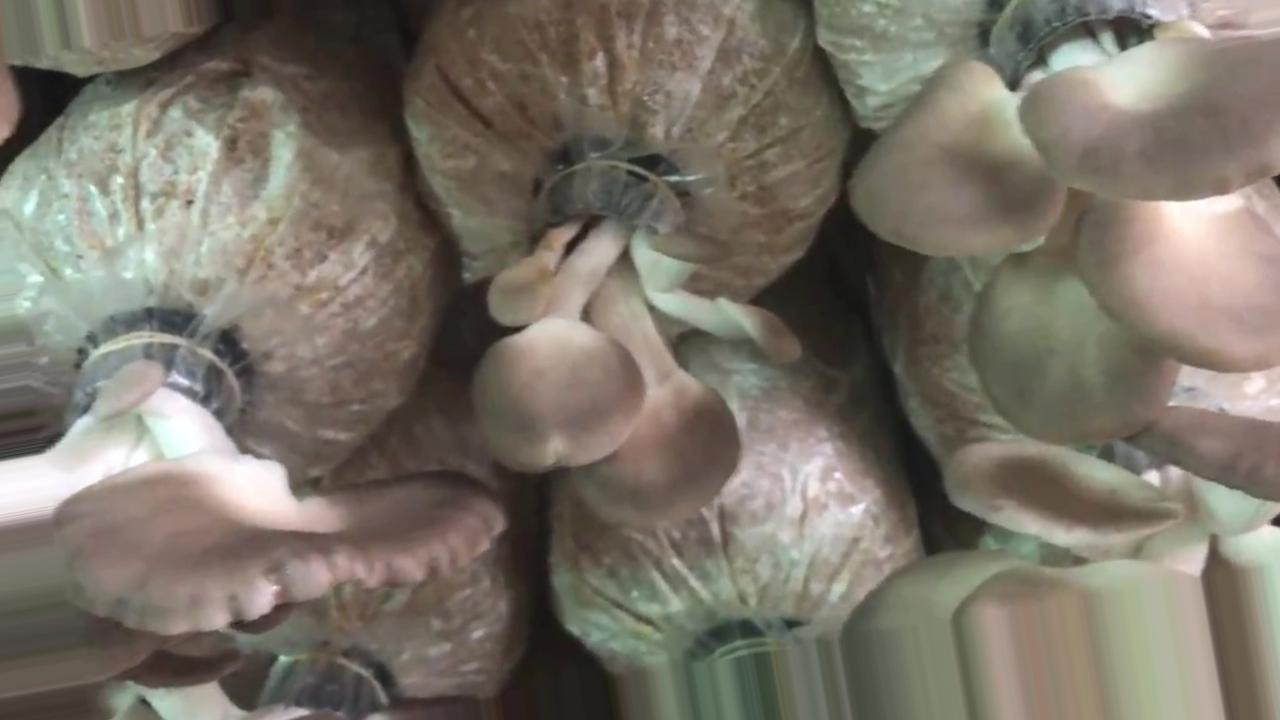nam: (846, 1, 1275, 453), (1, 343, 507, 639), (478, 120, 805, 535), (846, 413, 1280, 592)
